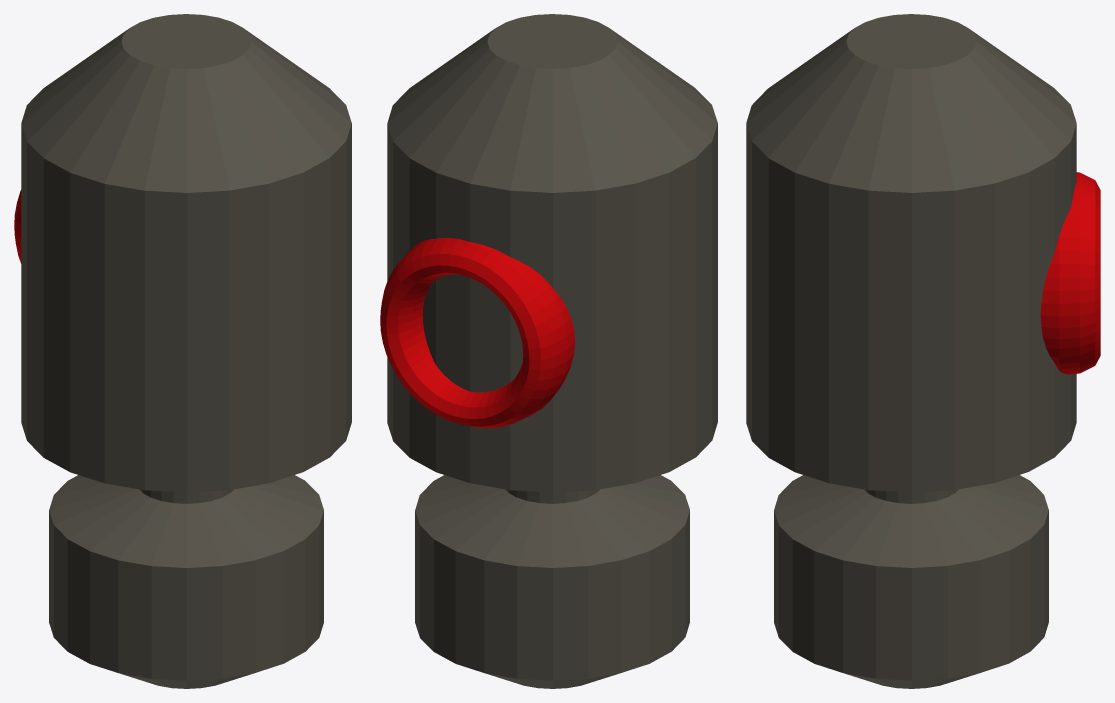
Rendered from barbarian.glb.
3 views of the same model, side by side, from view 1: azimuth 30°, elevation 25°; view 2: azimuth 150°, elevation 25°; view 3: azimuth 270°, elevation 25° (orthographic).
Parts seen in each view (by area): view 1: Plane; view 2: Plane, Torus; view 3: Plane, Torus.
Part boxes in pixels (box(x1,y1,x2,y2)): Plane: box(21, 14, 351, 688); Plane: box(387, 14, 717, 688); Torus: box(380, 238, 575, 428); Plane: box(746, 14, 1076, 688); Torus: box(1040, 172, 1100, 374).
Size of the model in its own units: 2 by 4.16 by 2.15.
